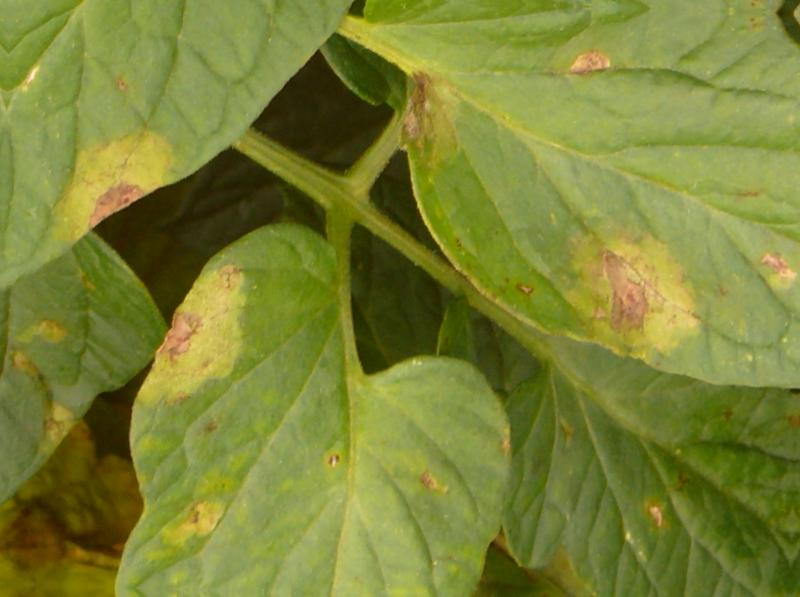Tomato Early blight leaf: (353, 0, 800, 403), (112, 232, 521, 594)
